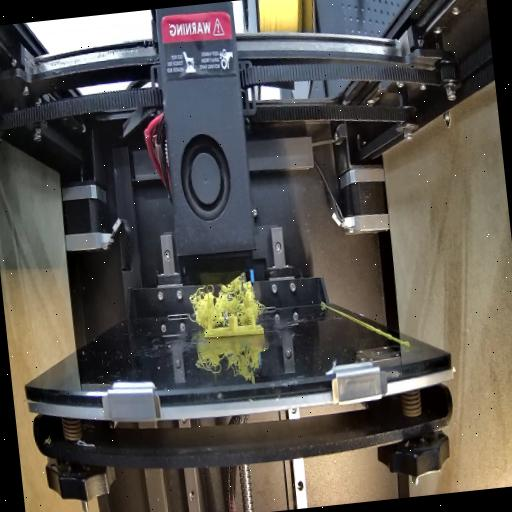spaghetti: (188, 274, 264, 332)
